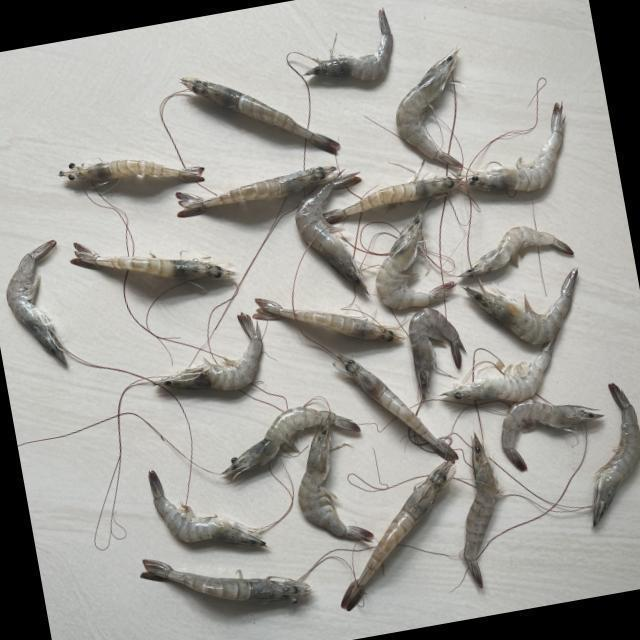shrimp: (341, 462, 456, 611), (334, 355, 459, 462), (181, 76, 340, 153), (223, 407, 360, 479), (298, 414, 373, 542), (465, 267, 579, 344), (148, 471, 265, 546), (295, 173, 368, 293), (468, 102, 566, 190), (175, 165, 339, 217), (154, 313, 262, 390), (376, 208, 456, 309), (396, 47, 462, 166), (5, 239, 66, 366), (140, 560, 311, 604), (443, 339, 556, 404), (502, 399, 604, 471), (594, 383, 640, 527), (252, 297, 401, 341), (324, 176, 461, 223), (70, 242, 234, 281), (305, 8, 393, 79), (461, 226, 575, 276), (464, 434, 499, 588), (409, 308, 466, 399), (58, 158, 203, 183)
